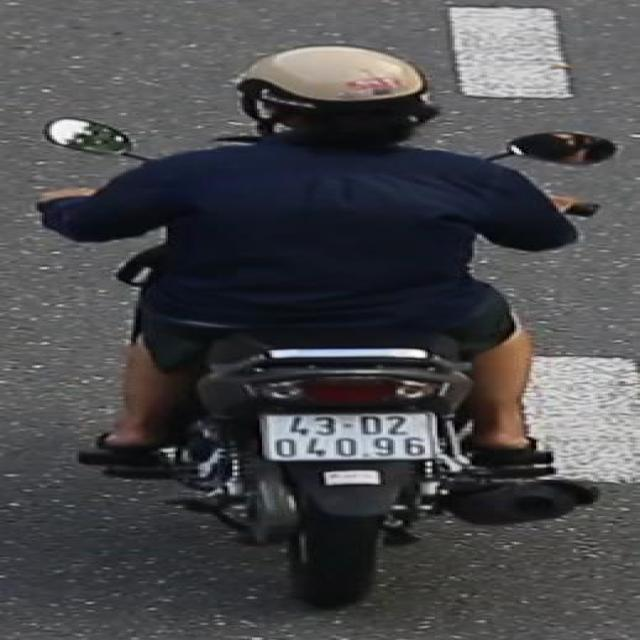LP: (253, 405, 441, 463)
helmet: (227, 38, 435, 152)
